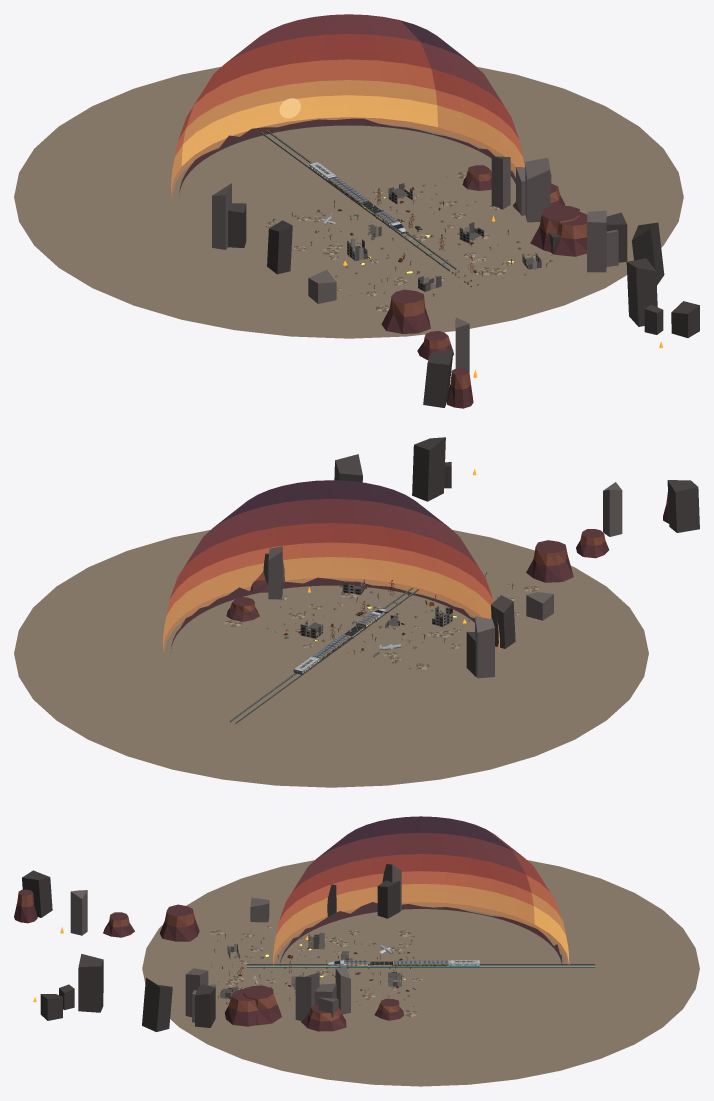
File: train.glb
3 renders of one model, top to bottom at view 1: azimuth 30°, elevation 25°; view 2: azimuth 150°, elevation 25°; view 3: azimuth 270°, elevation 25°, orthographic. The views are drawn at different scales.
Visible parts, largest first — view 1: Train, Train_Sky, Train_Far, Train_Near; view 2: Train, Train_Sky, Train_Far, Train_Near; view 3: Train, Train_Sky, Train_Far, Train_Near.
Boxes of the visible parts, <box> form: Train: <box>14,66,683,338</box>; Train_Sky: <box>171,14,524,206</box>; Train_Far: <box>212,156,699,408</box>; Train_Near: <box>265,171,552,311</box>; Train: <box>14,530,648,787</box>; Train_Sky: <box>163,480,499,662</box>; Train_Far: <box>226,437,699,678</box>; Train_Near: <box>224,572,538,669</box>; Train: <box>142,860,699,1086</box>; Train_Sky: <box>273,816,569,975</box>; Train_Far: <box>14,863,403,1031</box>; Train_Near: <box>210,925,422,1016</box>.
Size of the model in its own units: 640 by 242 by 787.
